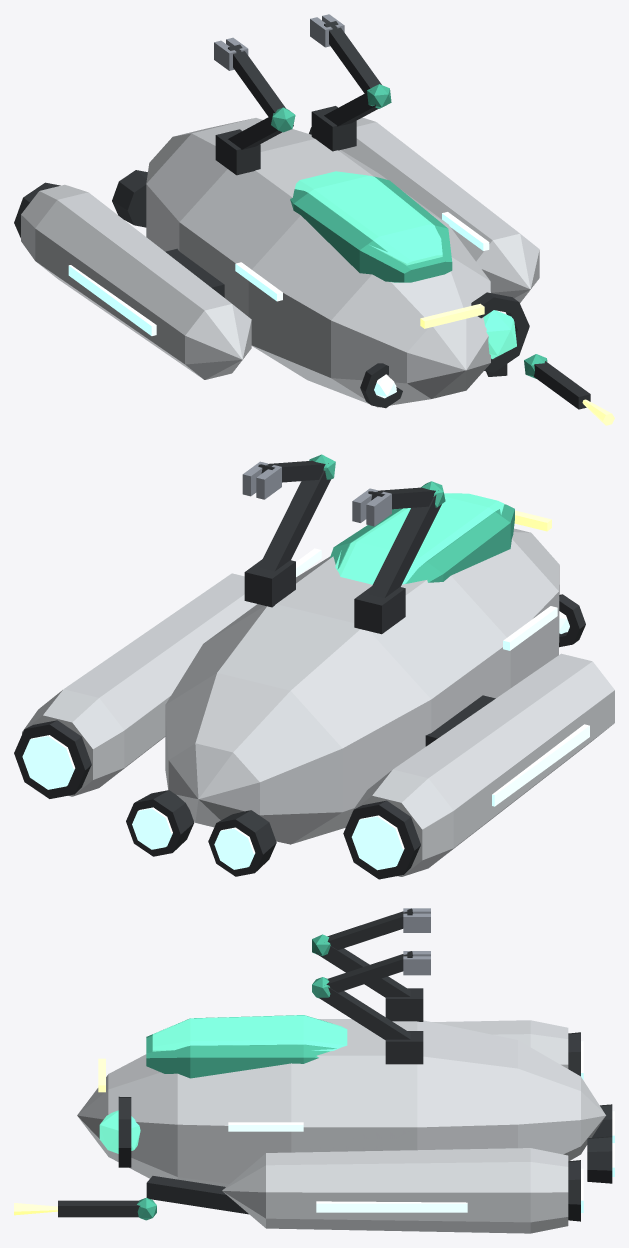
File: repair_drone.glb
The picture shows the model from 3 angles, top to bottom: view 1: azimuth 30°, elevation 25°; view 2: azimuth 150°, elevation 25°; view 3: azimuth 270°, elevation 25°; orthographic projection. The views are drawn at different scales.
Parts seen in each view (by area): view 1: repair_drone; view 2: repair_drone; view 3: repair_drone.
Boxes of the visible parts, left/top/right/bottom form: repair_drone: left=14, top=14, right=614, bottom=425; repair_drone: left=14, top=454, right=614, bottom=879; repair_drone: left=14, top=908, right=614, bottom=1233.
Size of the model in its own units: 3.05 by 2.29 by 4.77.
